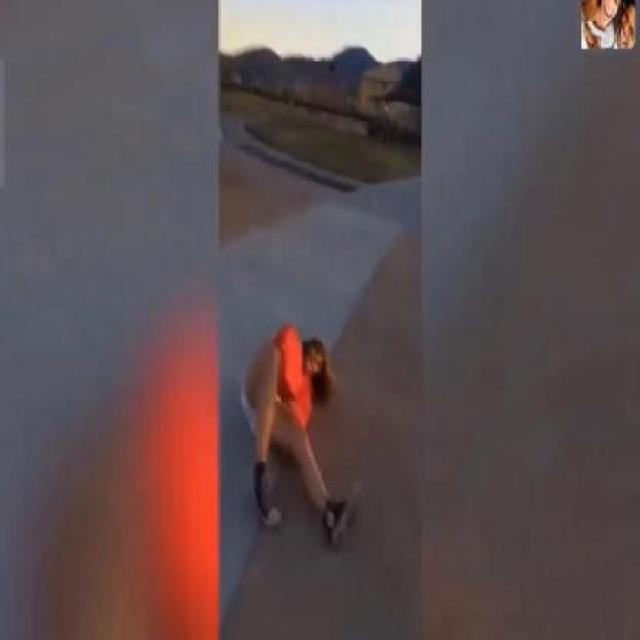fall: (241, 327, 364, 547)
